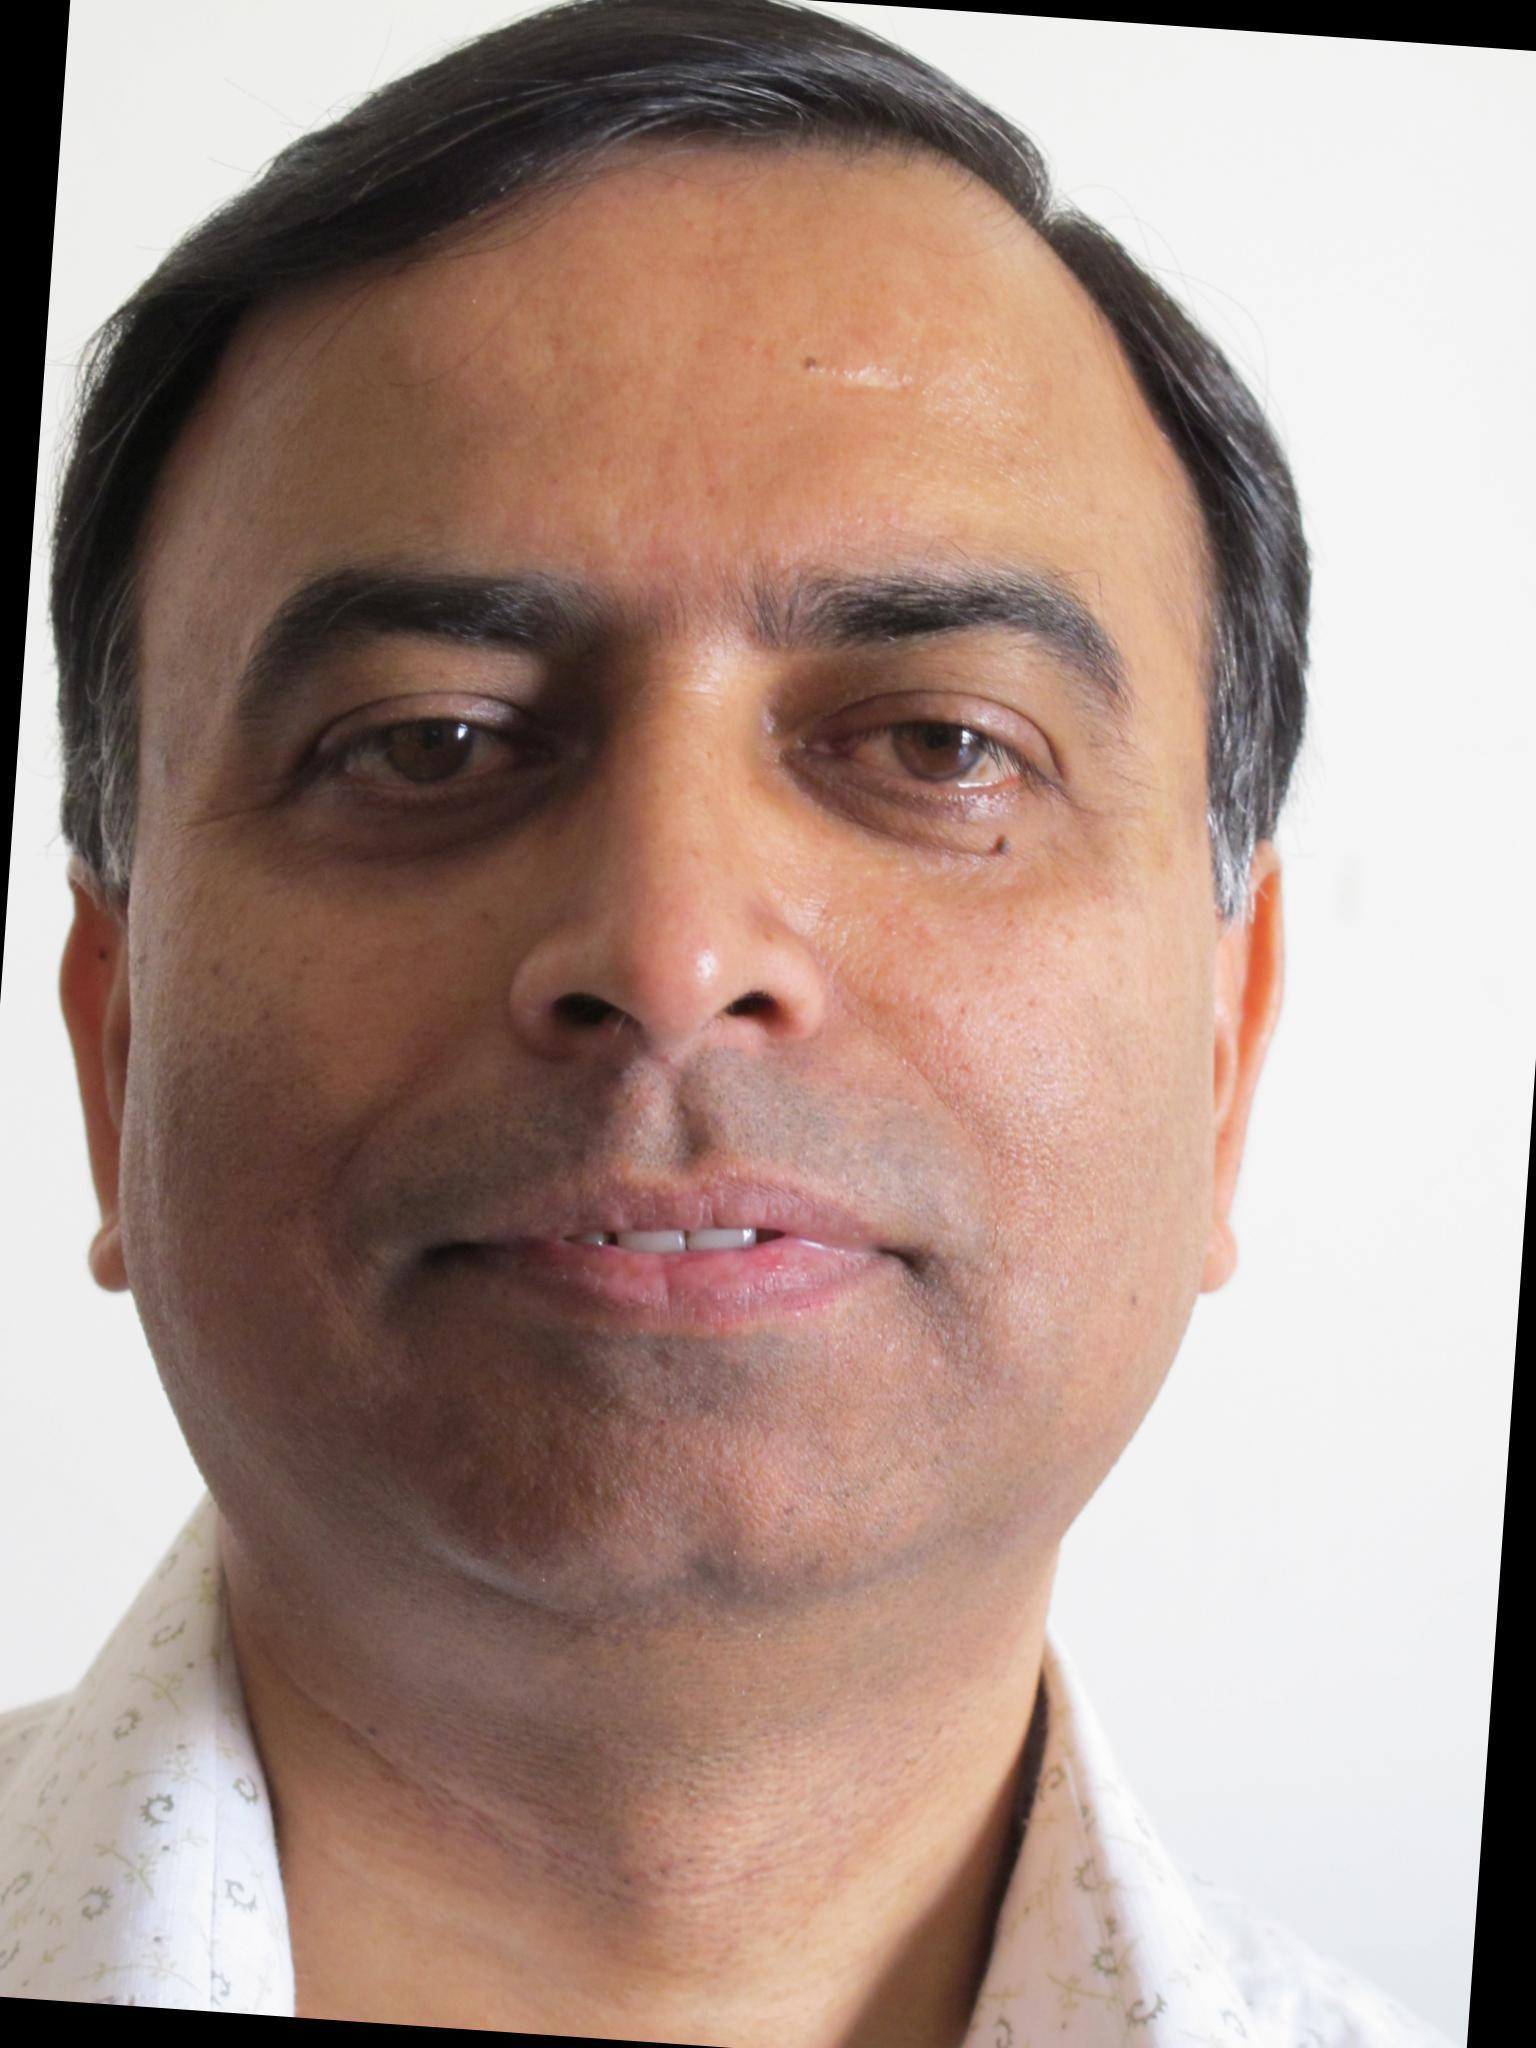Sober: (123, 281, 1179, 1587)
